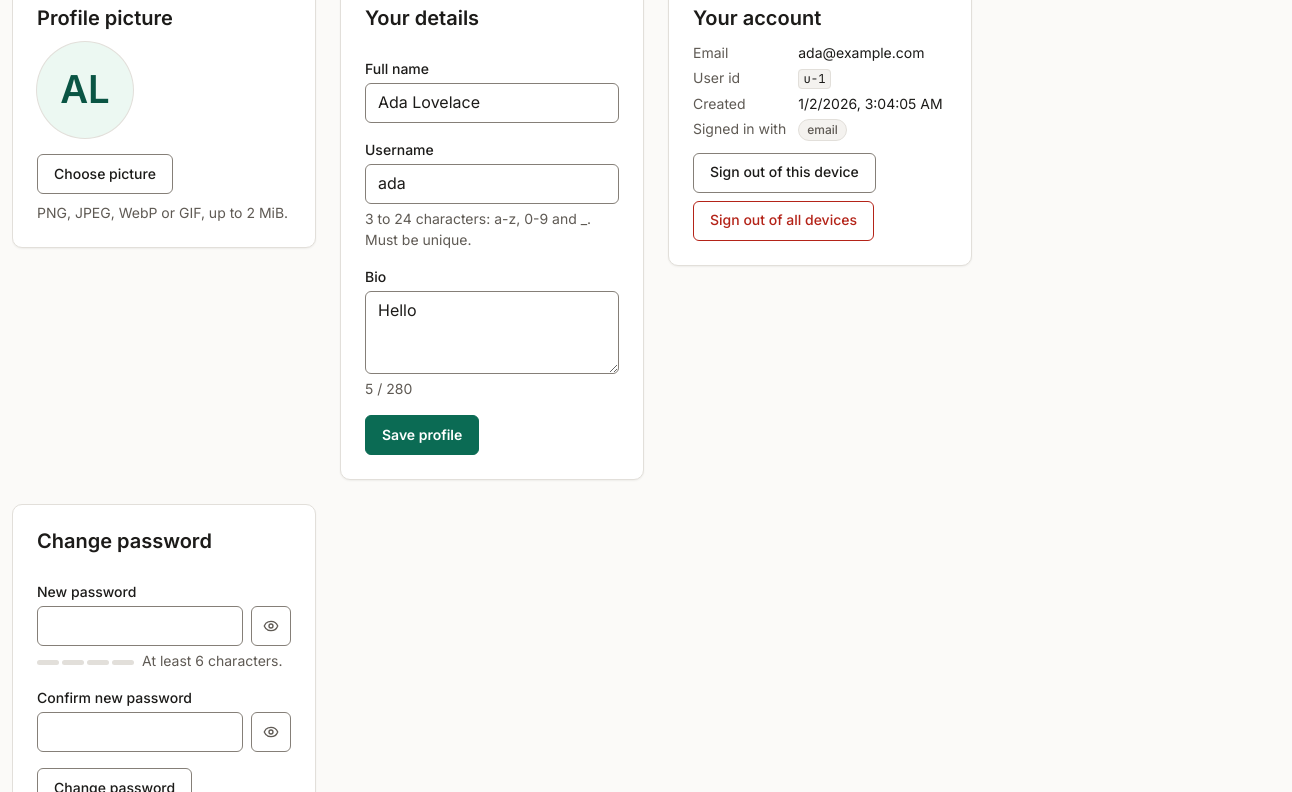
Test: ProfilePage › does not change the password when they differ
Step 1. Type "another-pass" into the password field labelled "New password" → (140, 626), box [37,606,243,646]
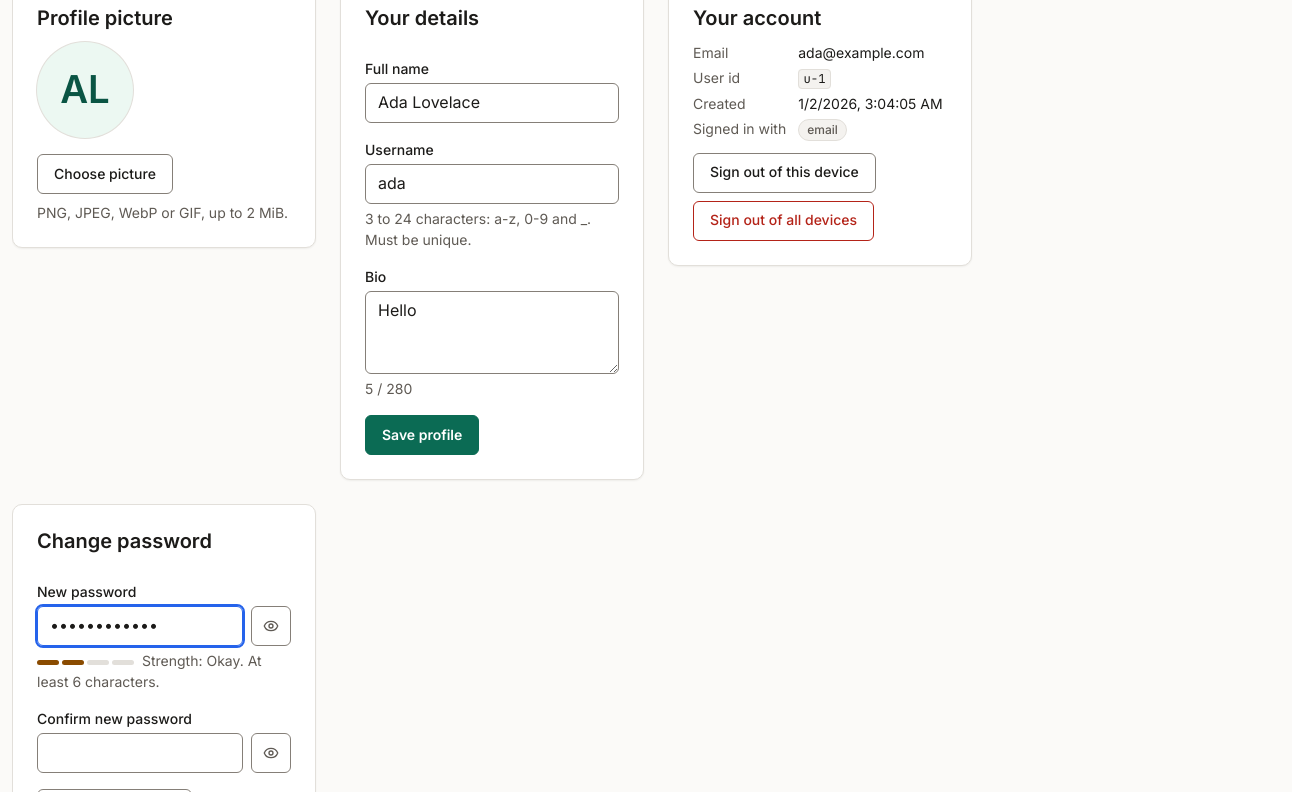
Step 2. Type "nope" into the password field labelled "Confirm new password" → (140, 753), box [37,733,243,773]
(page scrolled)
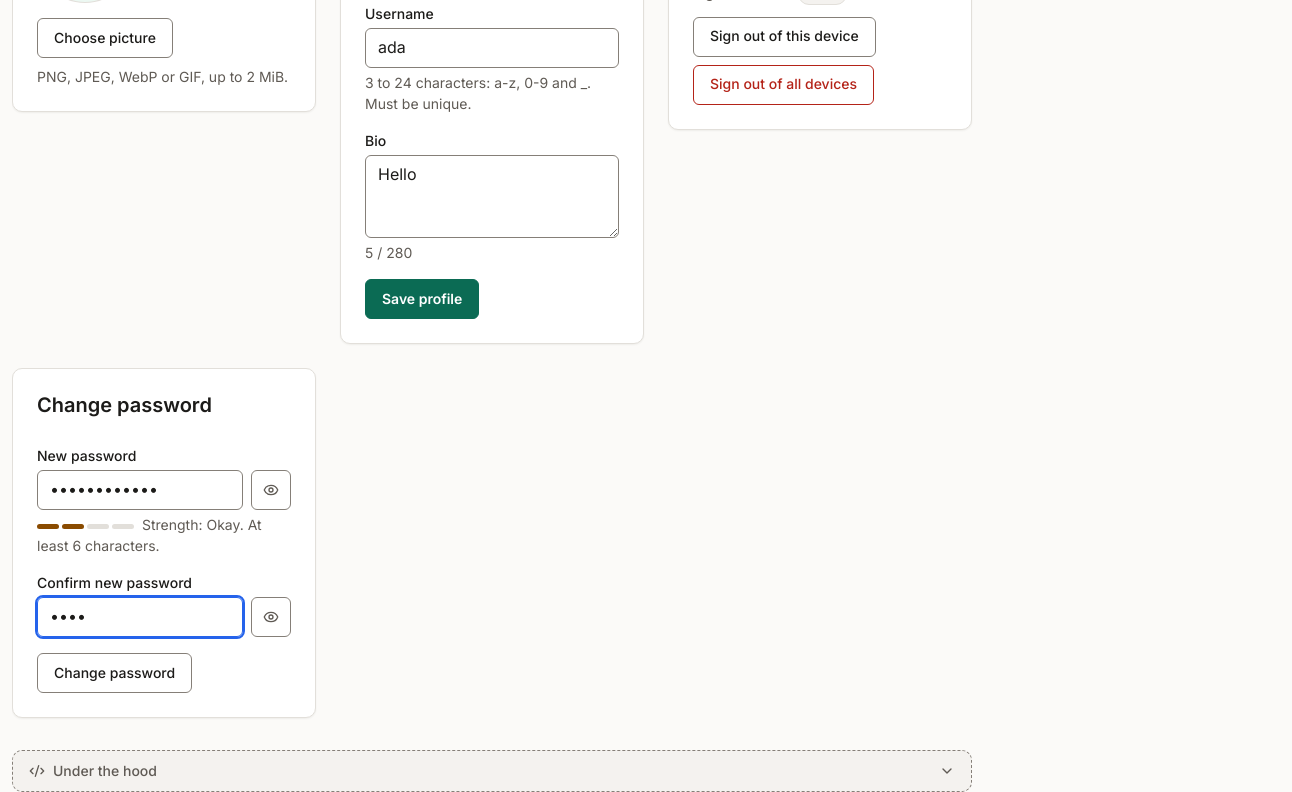
Step 3. Click the button "Change password" → click(115, 673), box [37,653,192,693]
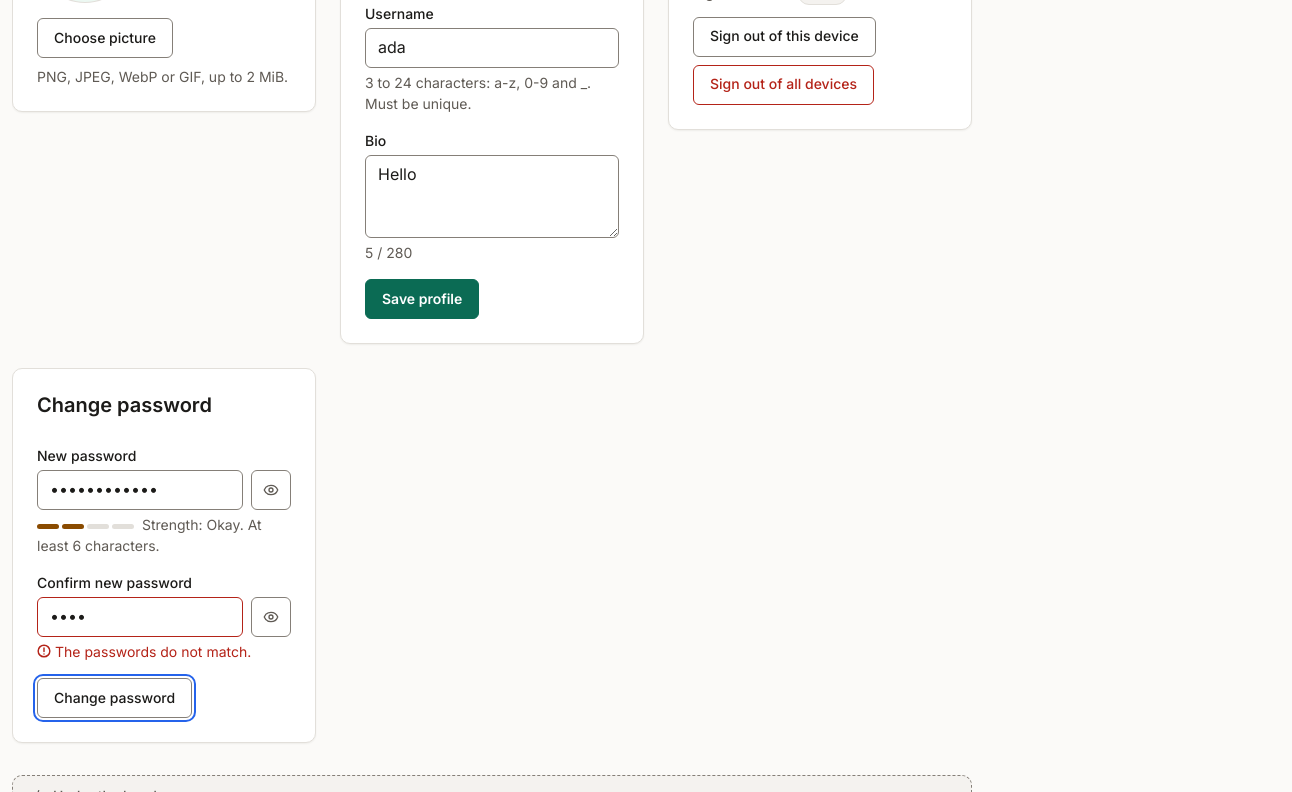
Result: the message shows "do not match" at [55,643,251,660]
